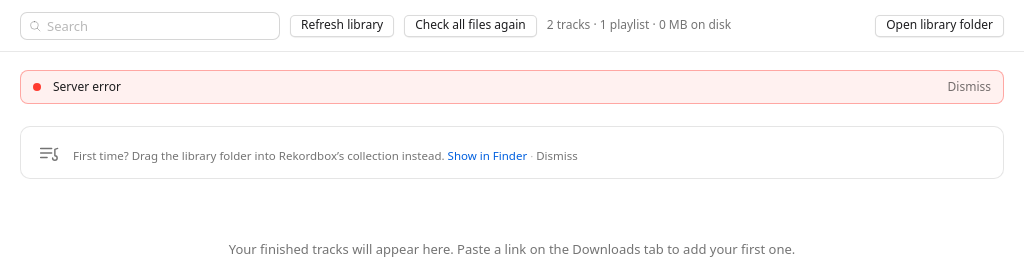
Test: shows a red banner when api.library fails
Check: the text "Server error" is shown, box left=53, top=78, right=121, bottom=95
# The banner's own quiet Dismiss, at its right edge (the Rekordbox tip has one of its own)
Click the button "Dismiss" in the row of "Server error" at [969, 87], box left=948, top=79, right=991, bottom=95
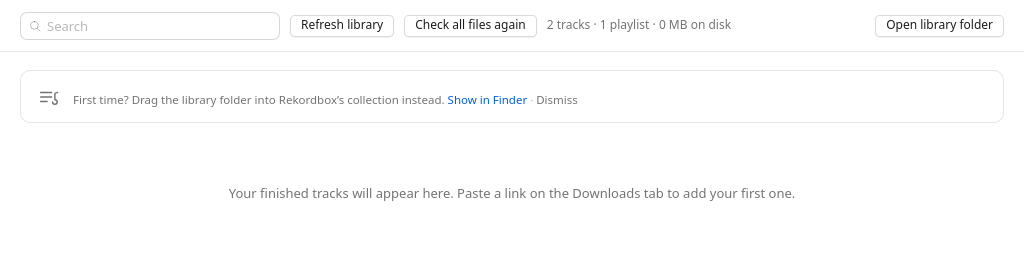
Check: the text "Server error" is gone
